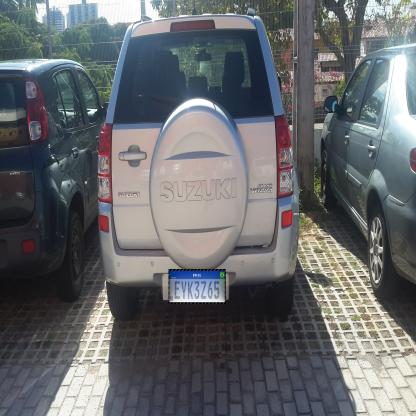PlacaM: (168, 269, 226, 304)
